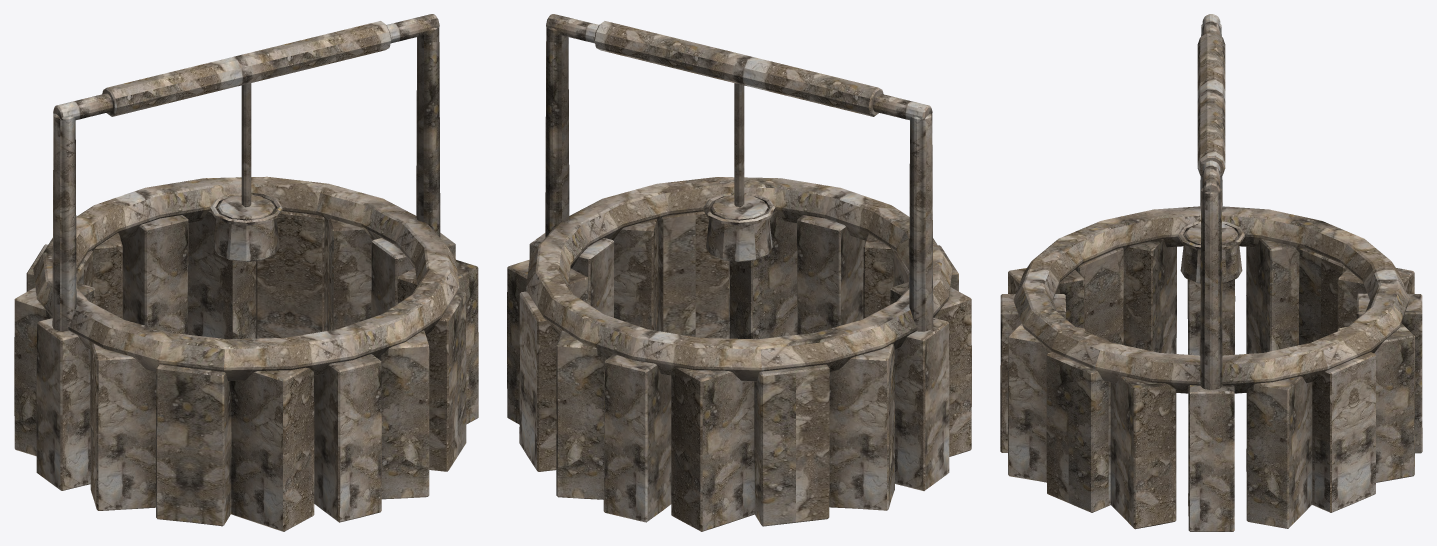
File: p_well.hi.glb
3 views of the same model, side by side, from view 1: azimuth 30°, elevation 25°; view 2: azimuth 150°, elevation 25°; view 3: azimuth 270°, elevation 25° (orthographic). The views are drawn at different scales.
Parts seen in each view (by area): view 1: well; view 2: well; view 3: well.
Part boxes in pixels (<box>): well: <box>14,14,478,531</box>; well: <box>507,14,971,531</box>; well: <box>1000,14,1422,531</box>.
Size of the model in its own units: 2.72 by 2.49 by 2.72.
1 material, 1 textured.
